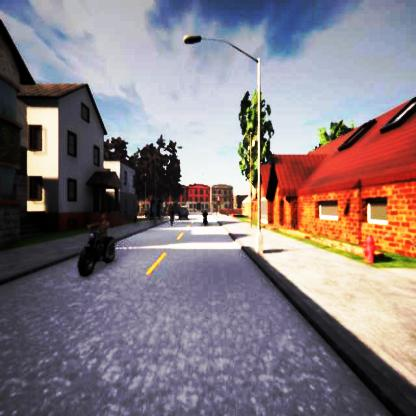motobike: (79, 210, 116, 274)
